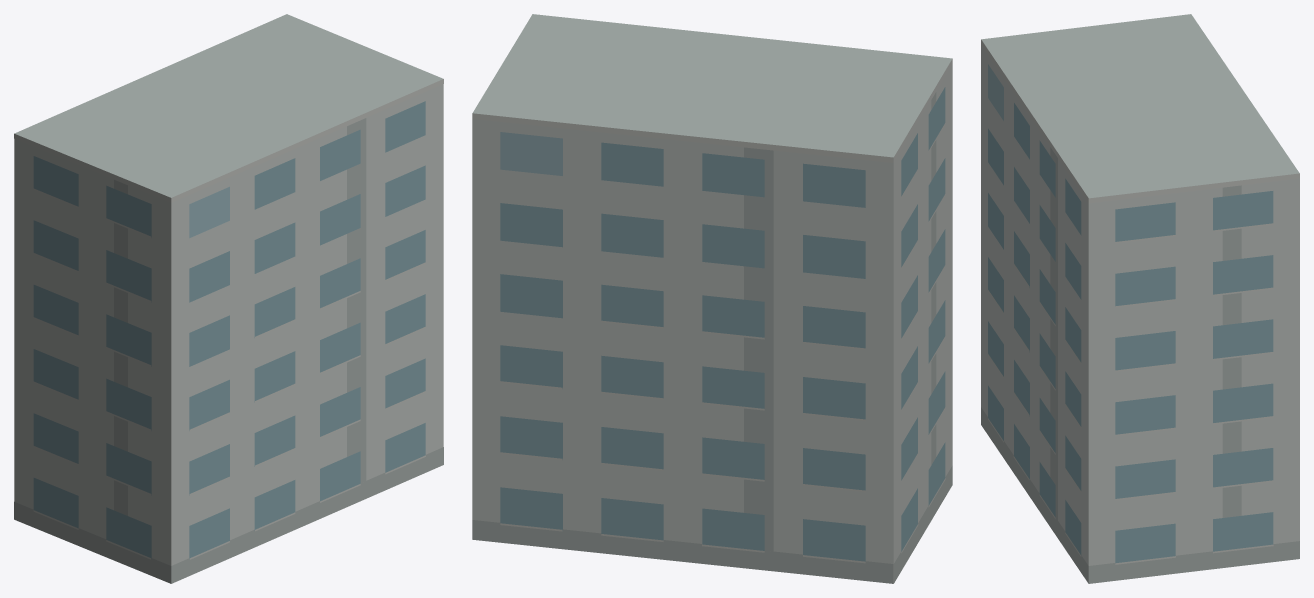
File: survey-upis-32565208.glb
The picture shows the model from 3 angles, left to right: view 1: azimuth 30°, elevation 25°; view 2: azimuth 150°, elevation 25°; view 3: azimuth 270°, elevation 25°; orthographic projection. The views are drawn at different scales.
Visible parts, largest first — view 1: survey-upis-32565208.tmp; view 2: survey-upis-32565208.tmp; view 3: survey-upis-32565208.tmp.
Part boxes in pixels (x1,y1,x2,y2): survey-upis-32565208.tmp: [14, 14, 443, 583]; survey-upis-32565208.tmp: [472, 14, 952, 583]; survey-upis-32565208.tmp: [981, 14, 1299, 583].
Size of the model in its own units: 18.78 by 18.3 by 13.72.
